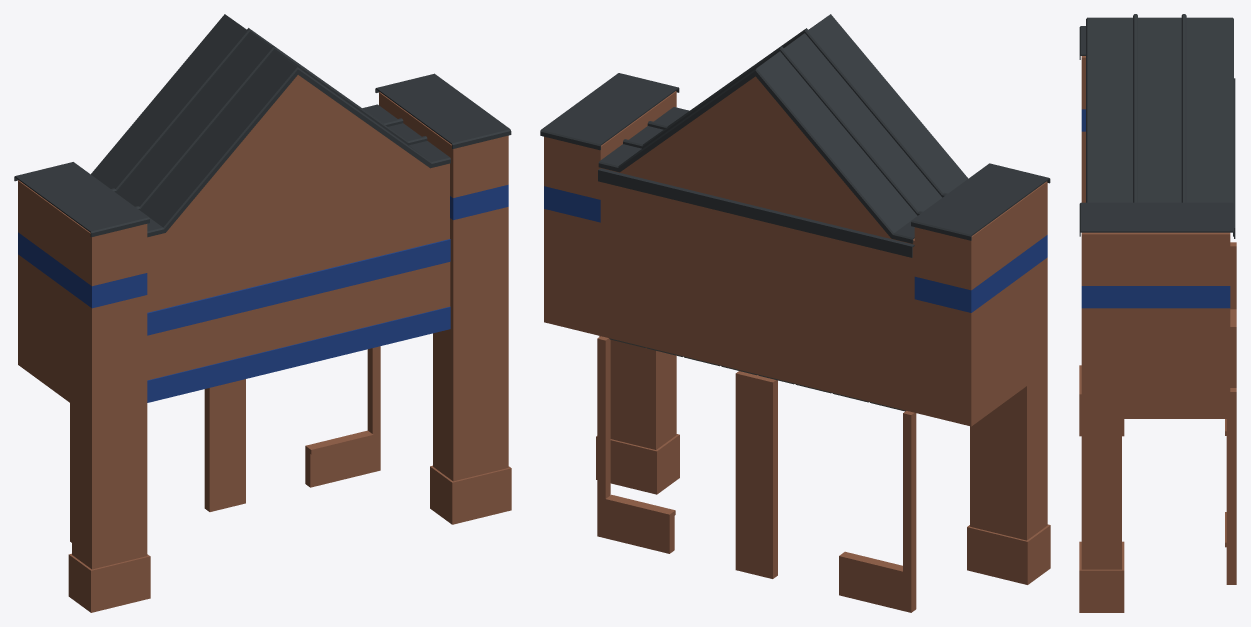
File: storefront-entry-gabled-brick.glb
3 renders of one model, left to right at view 1: azimuth 30°, elevation 25°; view 2: azimuth 150°, elevation 25°; view 3: azimuth 270°, elevation 25°, orthographic. The views are drawn at different scales.
Parts seen in each view (by area): view 1: gabled-brick-FacadeBrick, gabled-brick-FacadeCoping, gabled-brick-FacadeSoldierBrick, gabled-brick-FacadeTile; view 2: gabled-brick-FacadeBrick, gabled-brick-FacadeCoping, gabled-brick-FacadeSoldierBrick, gabled-brick-FacadeTile; view 3: gabled-brick-FacadeCoping, gabled-brick-FacadeBrick, gabled-brick-FacadeSoldierBrick, gabled-brick-FacadeTile.
Boxes of the visible parts, box(x1,y1,x2,y2) form: gabled-brick-FacadeBrick: box(18, 75, 508, 569); gabled-brick-FacadeCoping: box(14, 14, 511, 237); gabled-brick-FacadeSoldierBrick: box(18, 92, 511, 612); gabled-brick-FacadeTile: box(18, 184, 508, 402); gabled-brick-FacadeBrick: box(544, 76, 1047, 612); gabled-brick-FacadeCoping: box(540, 14, 1050, 257); gabled-brick-FacadeSoldierBrick: box(544, 91, 1050, 584); gabled-brick-FacadeTile: box(544, 186, 1047, 312); gabled-brick-FacadeCoping: box(1079, 14, 1235, 238); gabled-brick-FacadeBrick: box(1081, 131, 1236, 584); gabled-brick-FacadeSoldierBrick: box(1079, 56, 1230, 612); gabled-brick-FacadeTile: box(1081, 109, 1230, 308).
Size of the model in its own units: 20.9 by 23.52 by 6.76.
